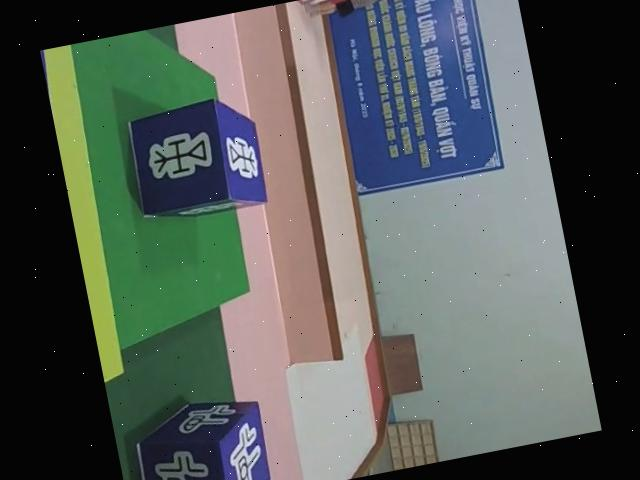R2 Real Blue: (122, 92, 269, 227), (125, 390, 273, 480)
